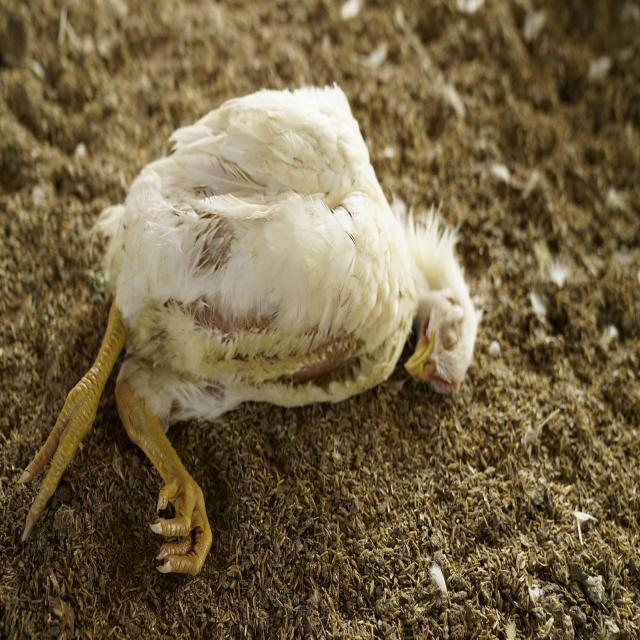dead: (17, 75, 486, 602)
